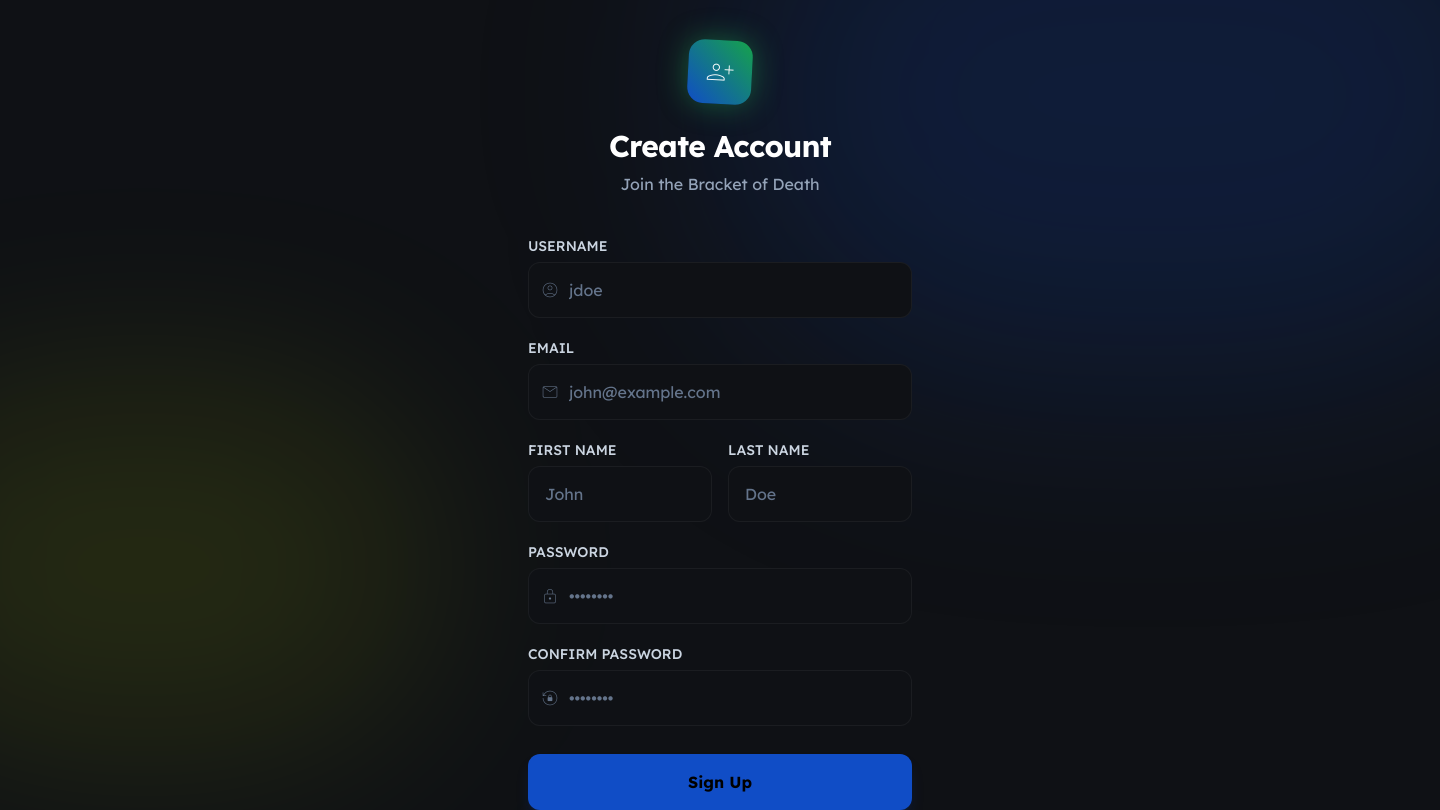
it: Register Component › displays error message on registration failure
The width and height of the screenshot is (1440, 810).
Type "testuser" into the field with placeholder "jdoe". click: [720, 290]
box: [528,262,912,318]
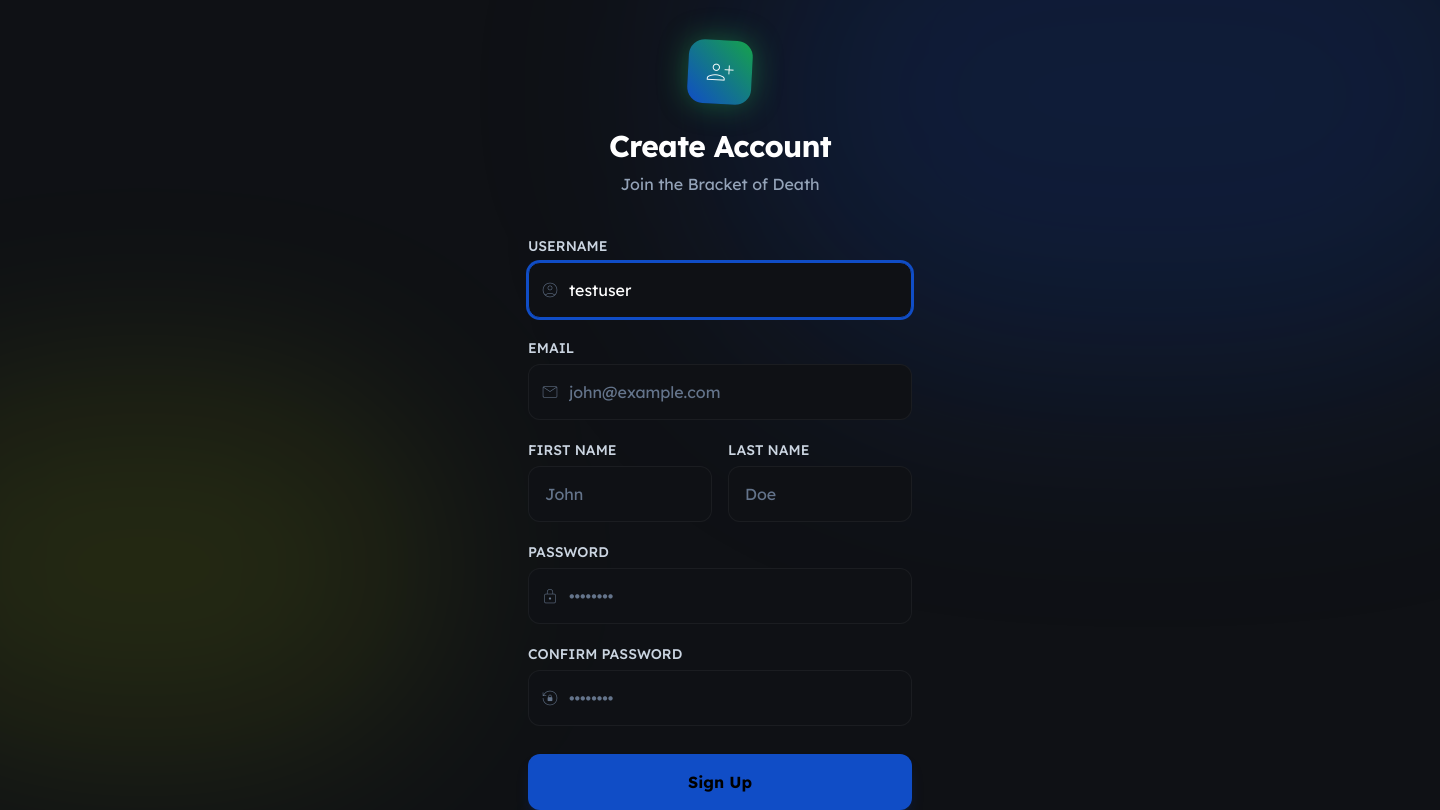
Type "test@example.com" into the field with placeholder "john@example.com". click: [720, 392]
box: [528,364,912,420]
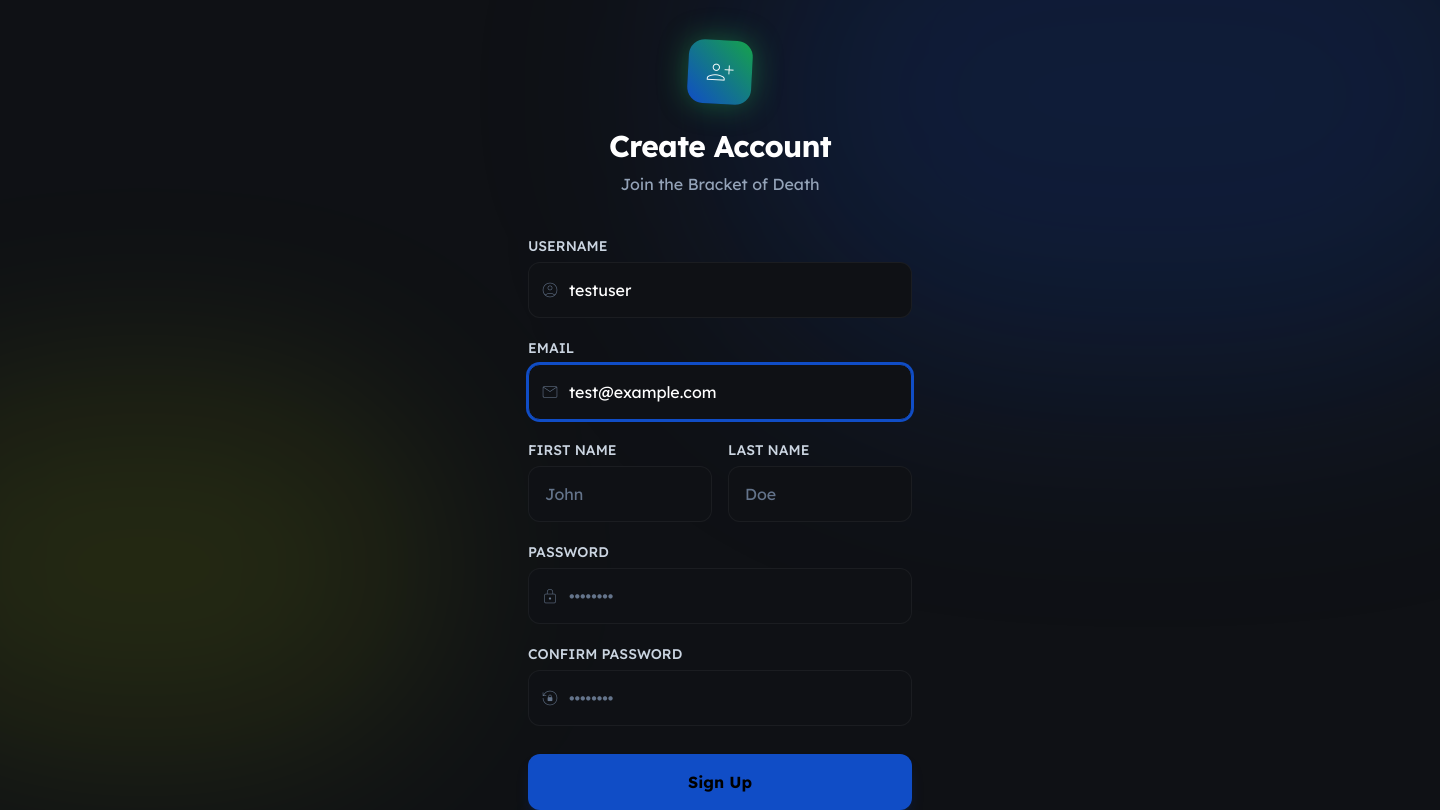
Type "password123" into the 1st password field with placeholder "••••••••". click: [720, 596]
box: [528,568,912,624]
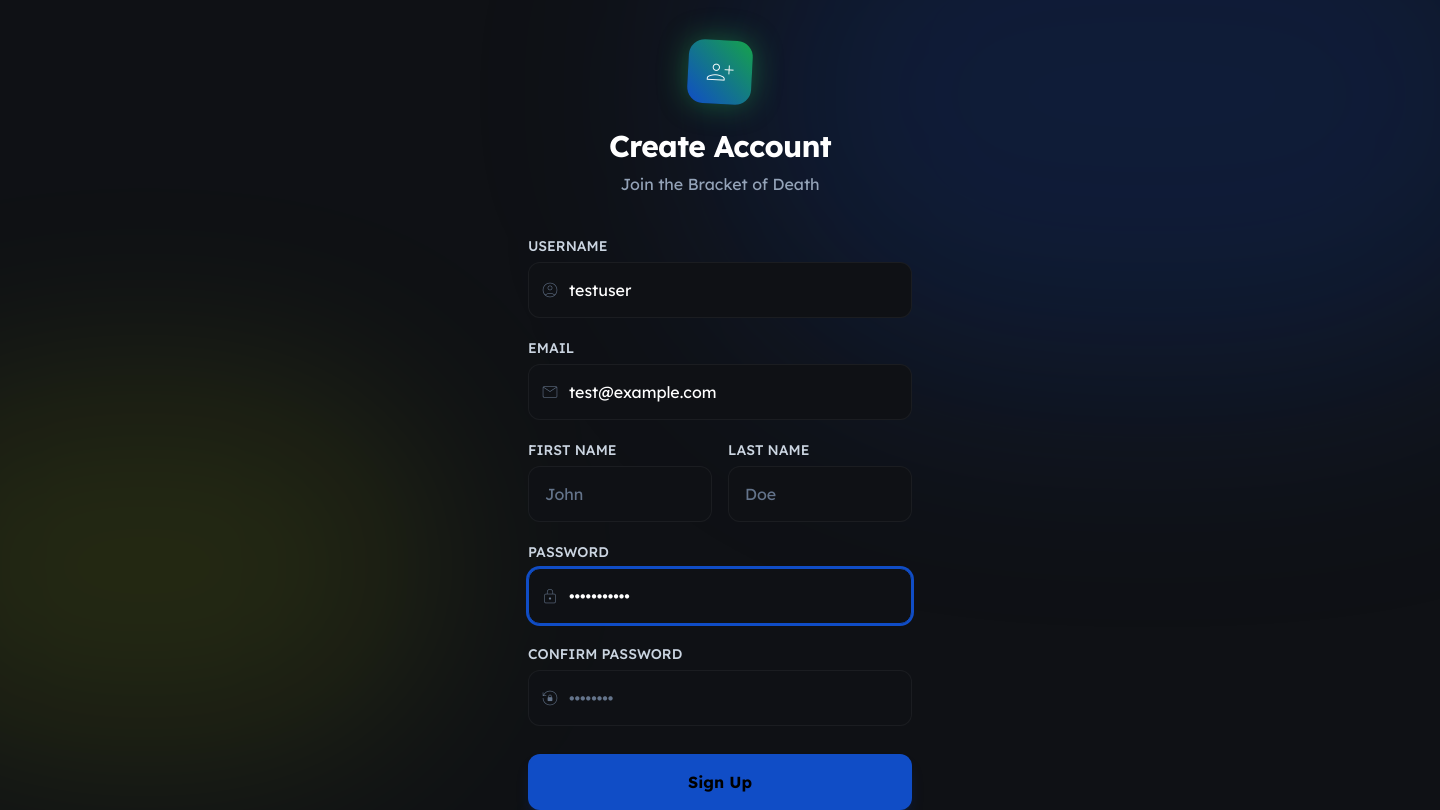
Type "password123" into the password field with placeholder "••••••••". click: [720, 698]
box: [528,670,912,726]
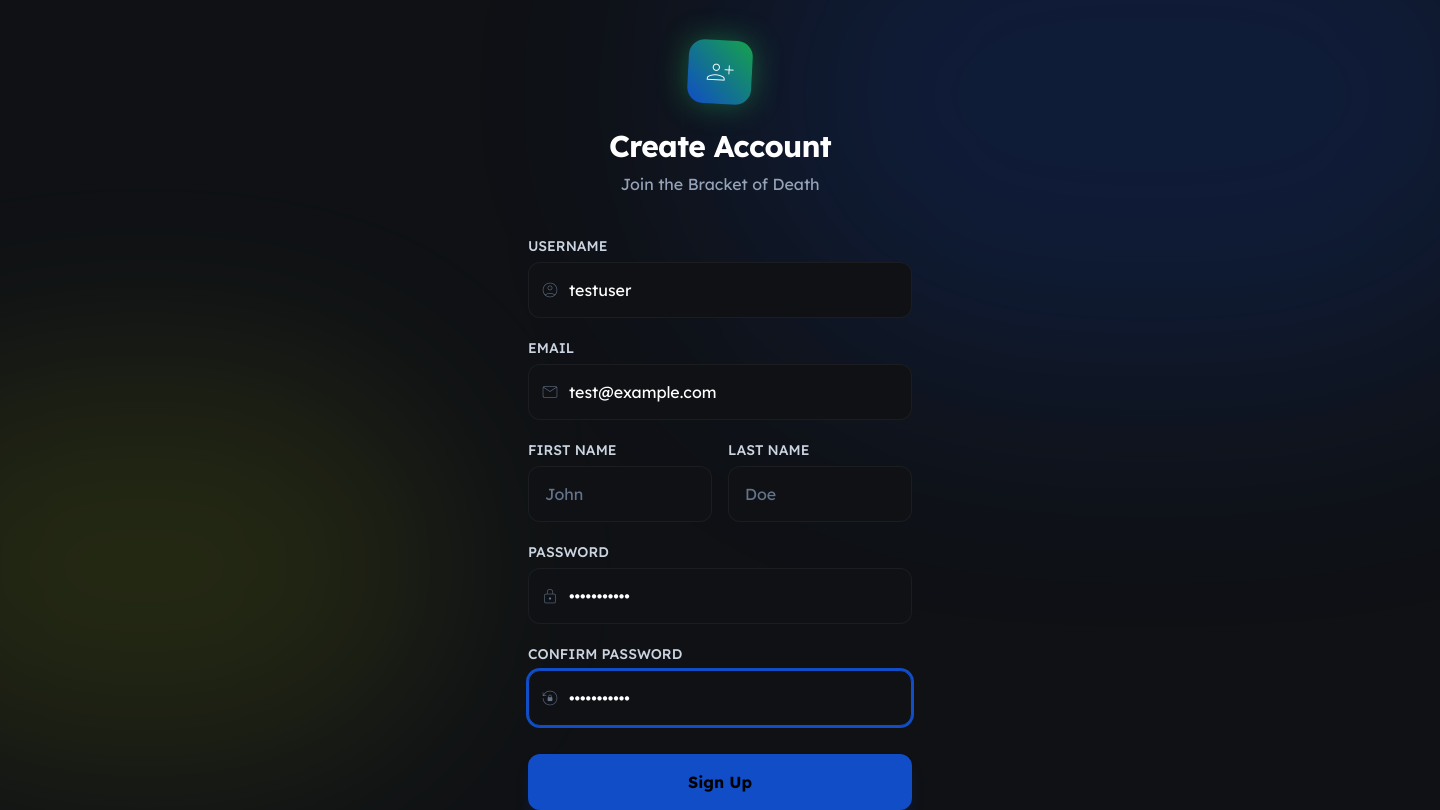
Click the button "Sign Up". click: [720, 782]
box: [528,754,912,809]
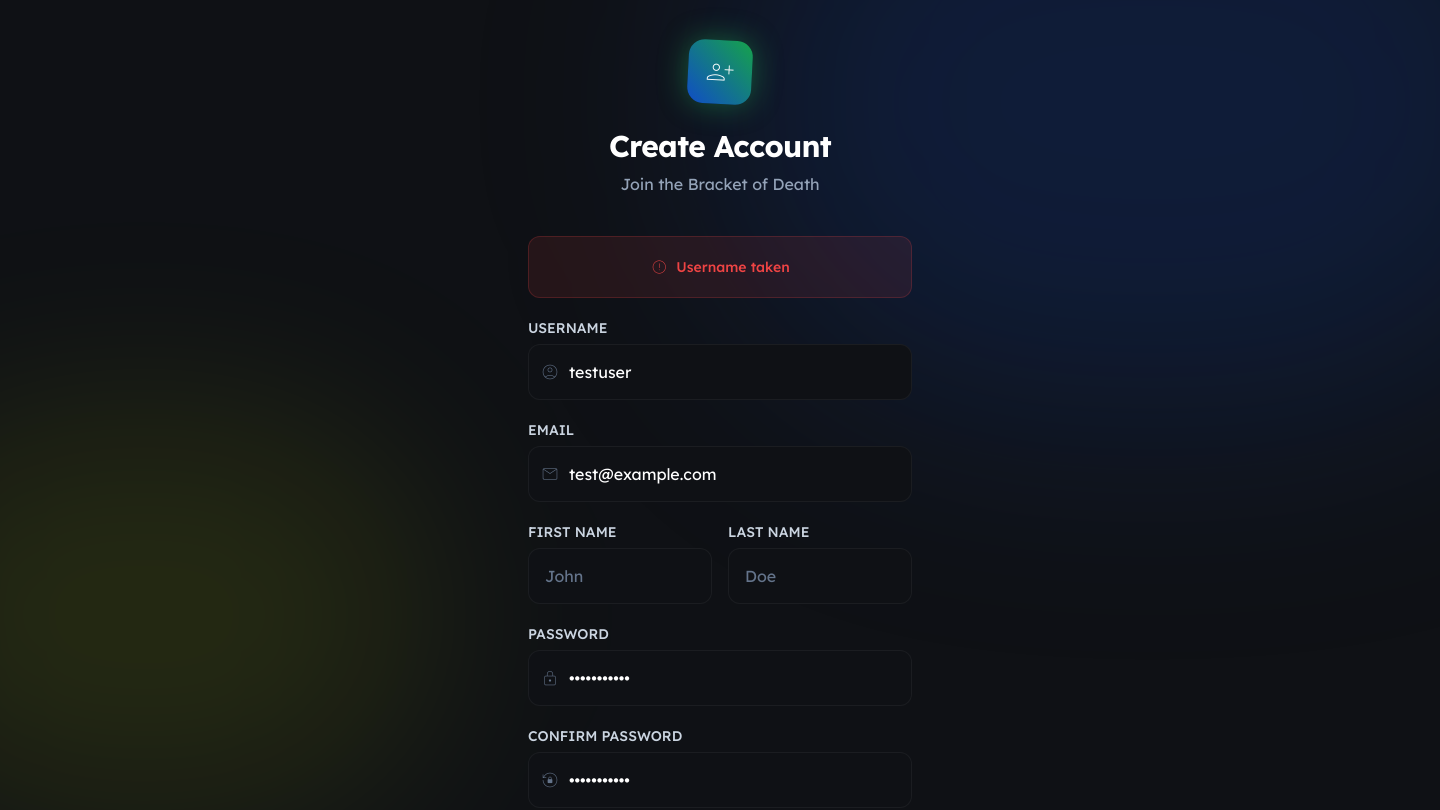
Expected: the text "Username taken" is shown, [528,236,912,298]
